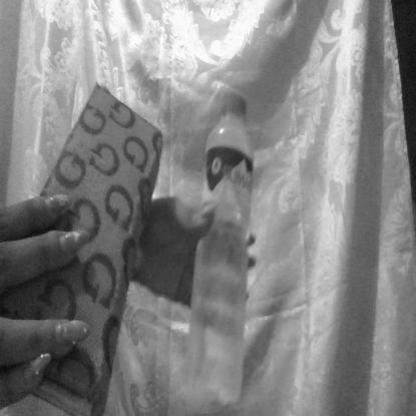Plastic Bottle: (176, 81, 272, 406)
